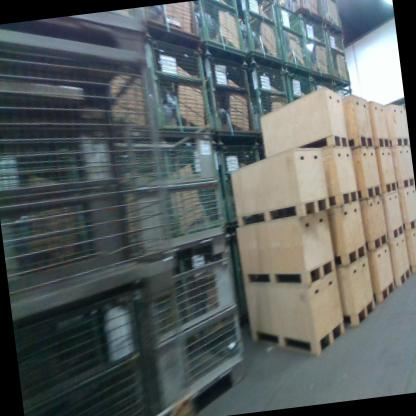stillage: (0, 10, 201, 416), (138, 235, 248, 416), (129, 133, 231, 249), (109, 42, 213, 149), (166, 234, 243, 368), (226, 224, 283, 344), (215, 133, 281, 229), (230, 45, 292, 145), (199, 52, 260, 145), (281, 8, 331, 84), (237, 0, 285, 76), (307, 20, 354, 93), (196, 0, 249, 64), (140, 0, 205, 47), (275, 0, 311, 81), (283, 60, 318, 115), (322, 0, 347, 39), (299, 0, 325, 34), (331, 81, 354, 115)
